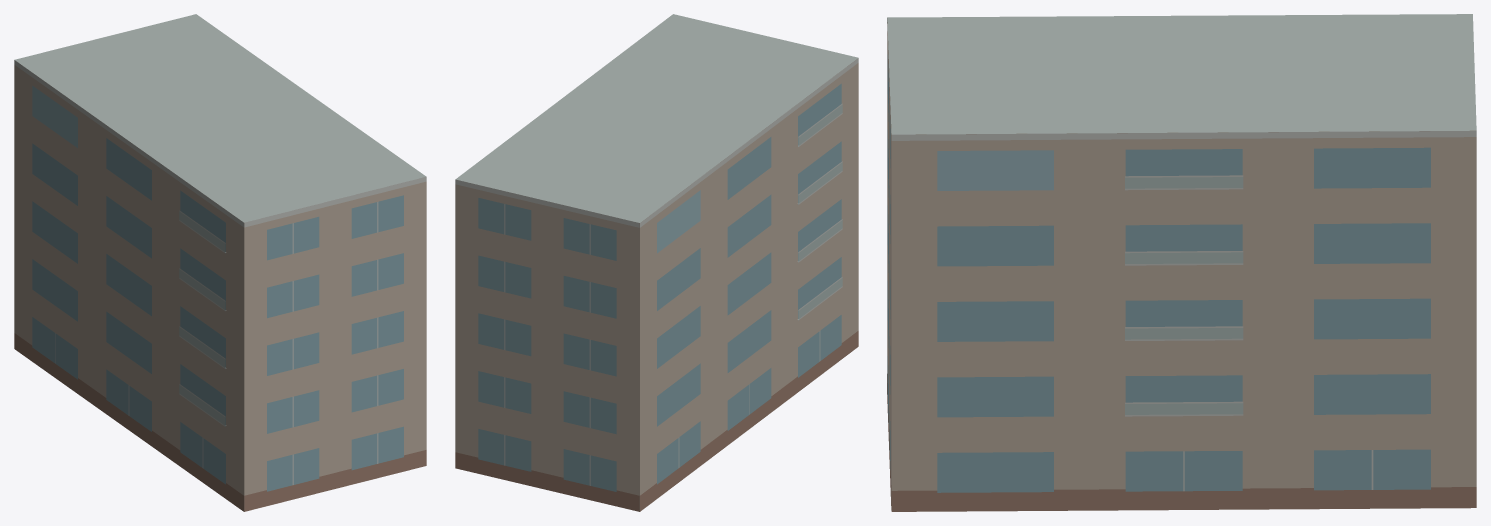
Rendered from survey-upis-32610861.glb.
3 views of the same model, side by side, from view 1: azimuth 30°, elevation 25°; view 2: azimuth 150°, elevation 25°; view 3: azimuth 270°, elevation 25° (orthographic). The views are drawn at different scales.
Visible parts, largest first — view 1: survey-upis-32610861.tmp; view 2: survey-upis-32610861.tmp; view 3: survey-upis-32610861.tmp.
Part boxes in pixels (bbox=[...]): survey-upis-32610861.tmp: bbox=[14, 14, 426, 511]; survey-upis-32610861.tmp: bbox=[455, 14, 858, 511]; survey-upis-32610861.tmp: bbox=[887, 14, 1476, 511].
Bounding box in the file's own units: 9.99 × 14.55 × 20.61.
